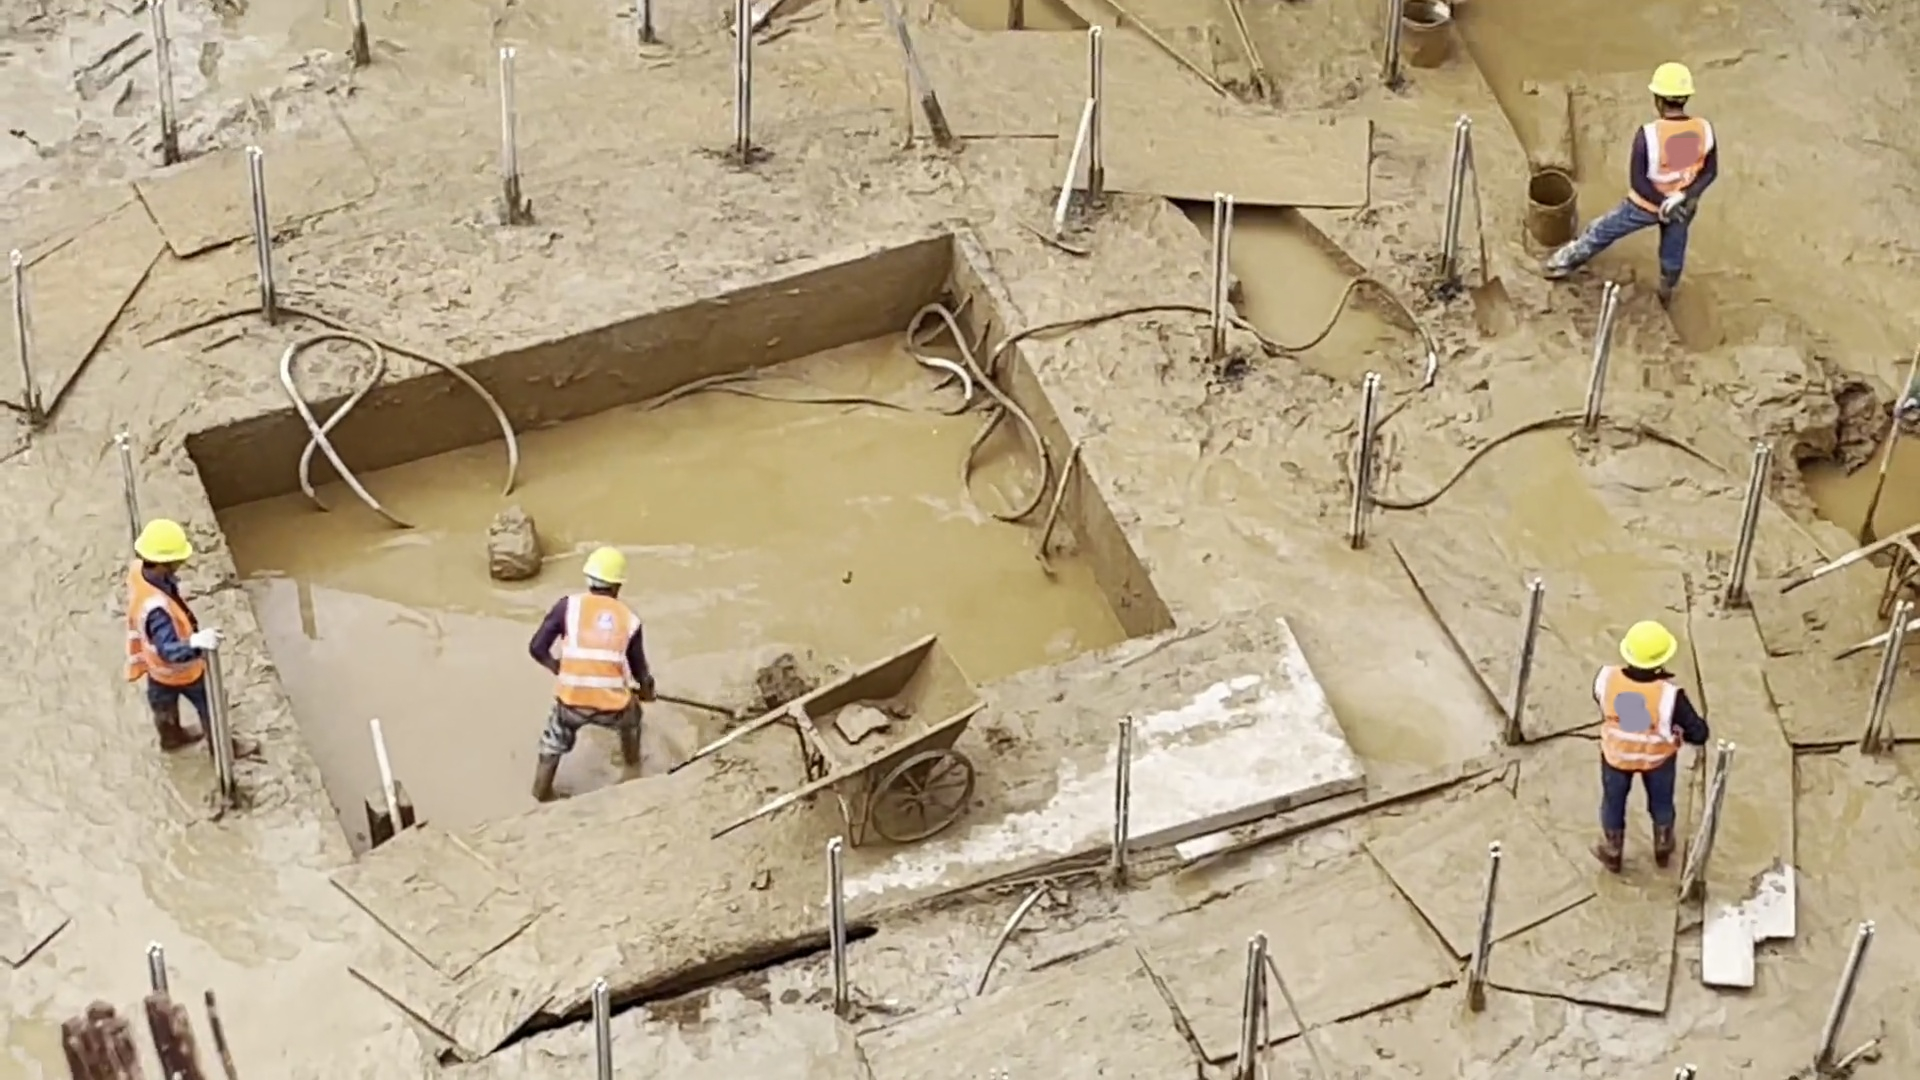helmet: (1616, 619, 1679, 671), (130, 517, 196, 562), (1646, 60, 1701, 98), (585, 547, 628, 585)
person: (1542, 61, 1729, 292), (113, 514, 255, 768), (520, 539, 649, 792), (1584, 619, 1702, 861)
vest: (555, 590, 642, 714), (122, 561, 207, 685), (1628, 111, 1713, 214), (1598, 666, 1673, 781)
